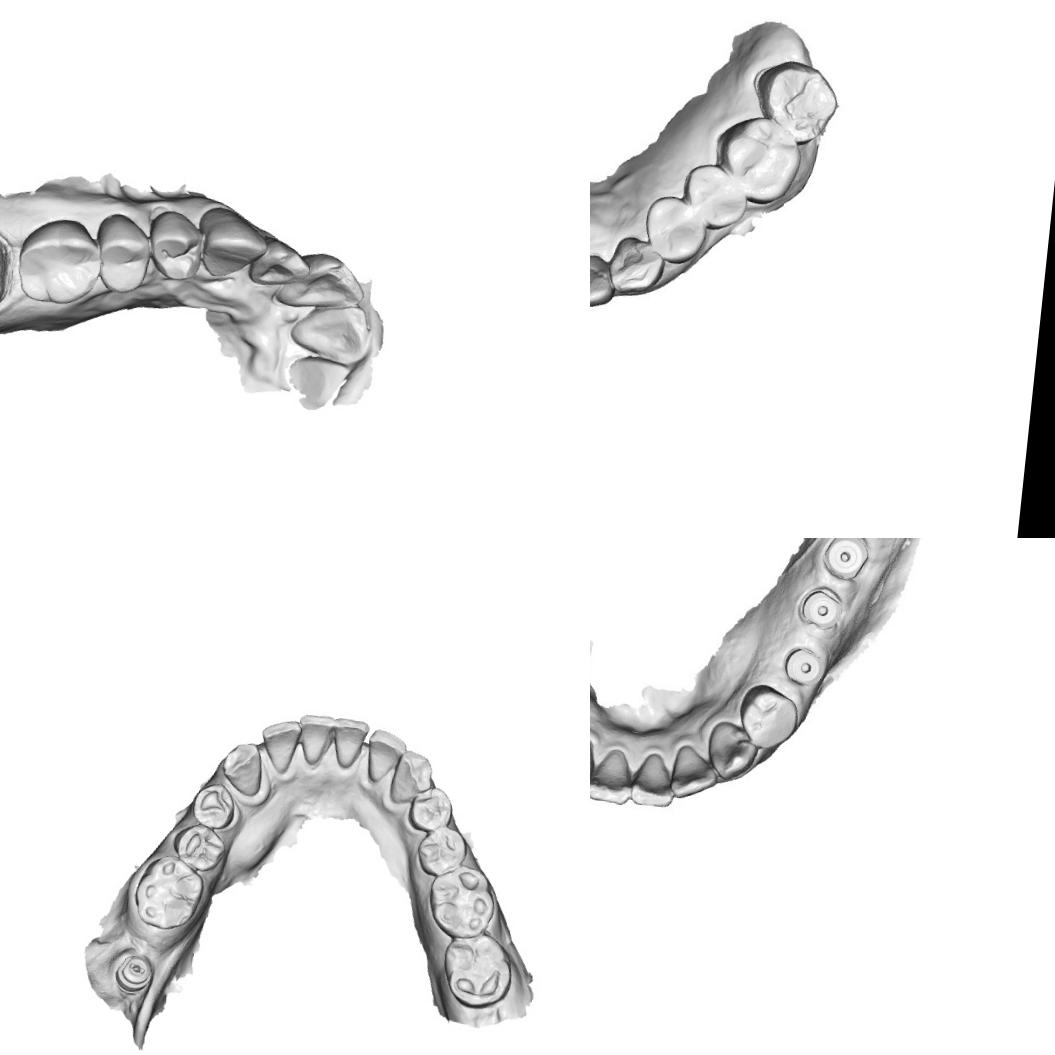canine: (193, 204, 272, 283), (605, 228, 664, 298), (386, 746, 436, 808), (218, 739, 268, 799), (708, 720, 756, 772)
crown: (0, 222, 20, 322)
implant: (776, 638, 834, 691), (821, 538, 873, 584), (799, 584, 847, 630)
implant_minus: (110, 950, 154, 996)
incisor: (274, 248, 370, 316), (284, 298, 374, 367), (247, 236, 314, 292), (362, 726, 410, 788), (257, 716, 304, 777), (632, 753, 680, 810), (590, 749, 638, 804), (670, 744, 716, 799), (327, 714, 370, 771), (293, 710, 335, 768), (590, 256, 613, 306)
molar: (13, 212, 107, 308), (716, 116, 802, 200), (129, 850, 208, 936), (755, 60, 838, 138), (438, 930, 516, 1013), (424, 862, 500, 943)
premolar: (90, 210, 156, 296), (144, 208, 207, 283), (644, 196, 706, 262), (740, 683, 800, 751), (688, 167, 748, 226), (170, 820, 230, 875), (414, 823, 470, 880), (188, 780, 238, 831), (406, 784, 456, 834)
